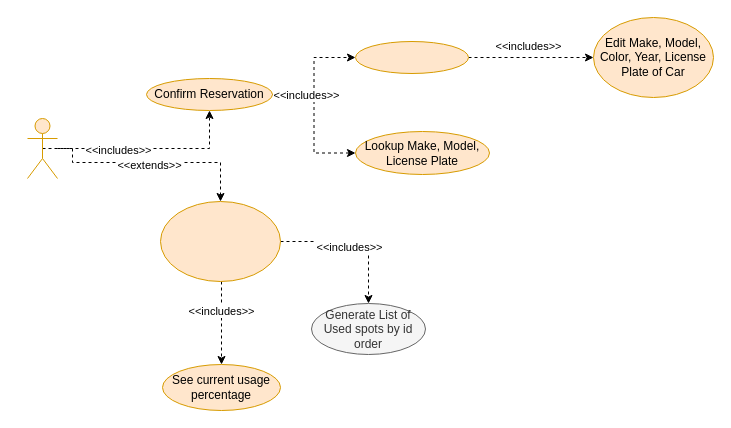
Some shapes in this 731 by 428 pixel diagram are drawn without their labels. The centre of each missing label's shape, as x and y in pixels:
"Attendant" belongs at pixel 42 148.
"Scan QR Code" belongs at pixel 411 57.
"Usage Reports" belongs at pixel 220 241.
